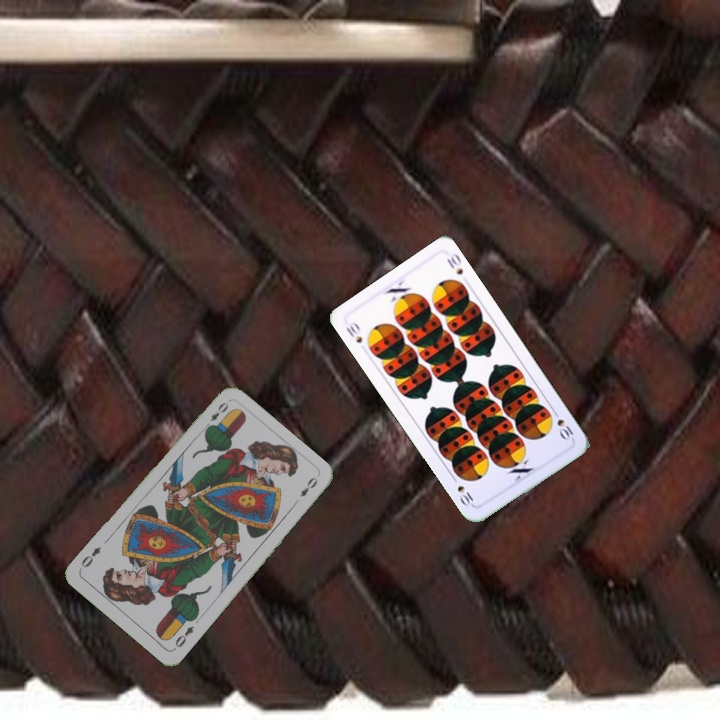EO: (200, 398, 231, 432), (170, 622, 196, 653)
S10: (545, 406, 577, 444), (342, 318, 365, 346)
